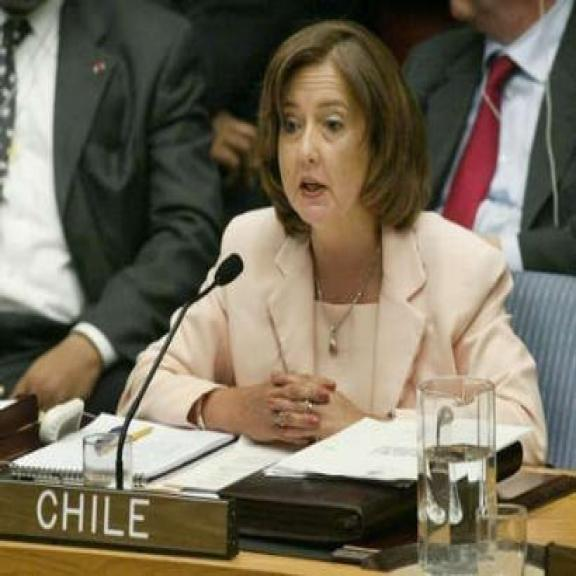face: (263, 24, 402, 230)
